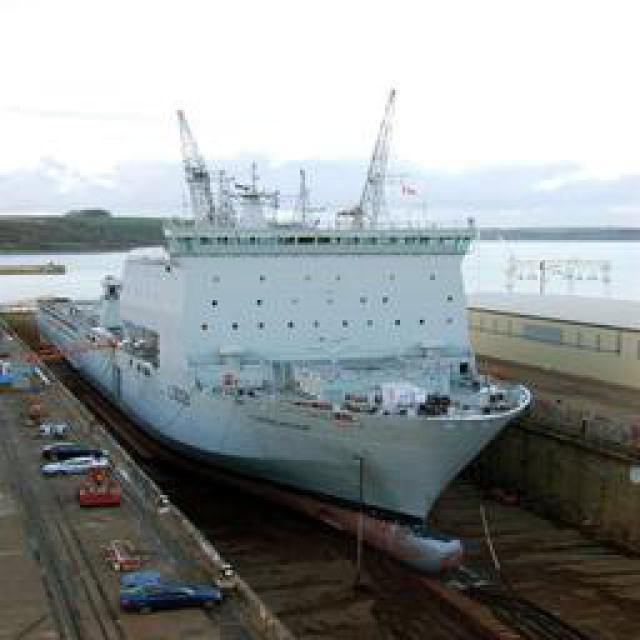Ship: (42, 141, 532, 559)
